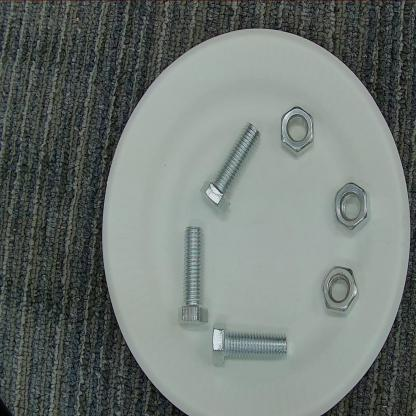FOD: (199, 120, 264, 217), (176, 222, 212, 330), (212, 318, 290, 366), (320, 260, 362, 319), (332, 179, 373, 238), (278, 102, 315, 164)
